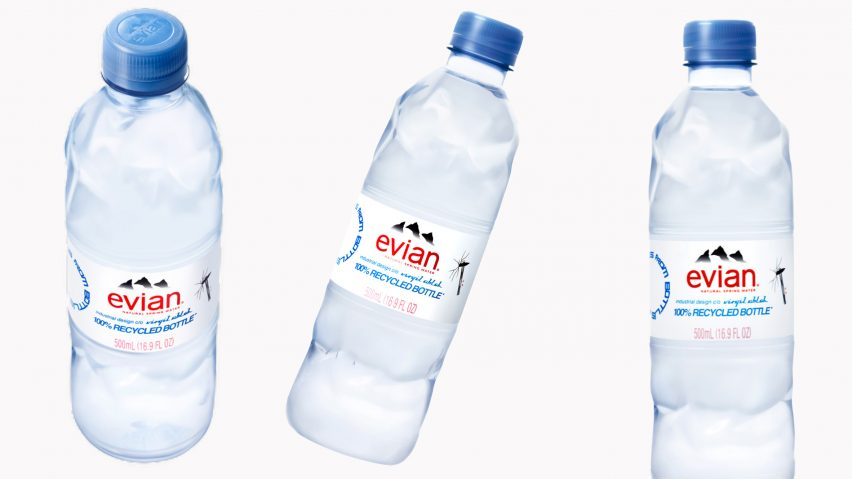plastic_bottle: (261, 2, 572, 479), (593, 14, 844, 479), (31, 1, 244, 470)
